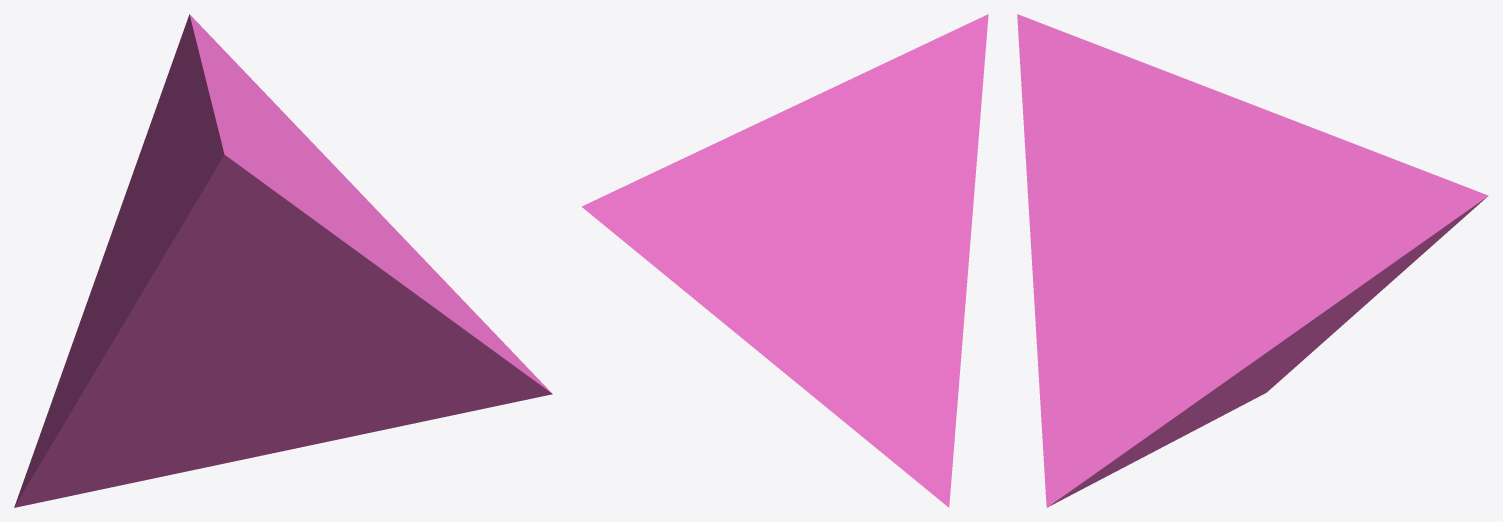
Rendered from InfoObras_BuenosAiresTour.gltf.
3 renders of one model, left to right at view 1: azimuth 30°, elevation 25°; view 2: azimuth 150°, elevation 25°; view 3: azimuth 270°, elevation 25°, orthographic. The views are drawn at different scales.
Visible parts, largest first — view 1: InfoObras_BuenosAiresTour; view 2: InfoObras_BuenosAiresTour; view 3: InfoObras_BuenosAiresTour.
Boxes of the visible parts, x1,y1,x2,y2 form: InfoObras_BuenosAiresTour: [14, 14, 552, 507]; InfoObras_BuenosAiresTour: [581, 14, 988, 507]; InfoObras_BuenosAiresTour: [1017, 14, 1488, 507].
Bounding box in the file's own units: 0.2589 × 0.2466 × 0.2516.
